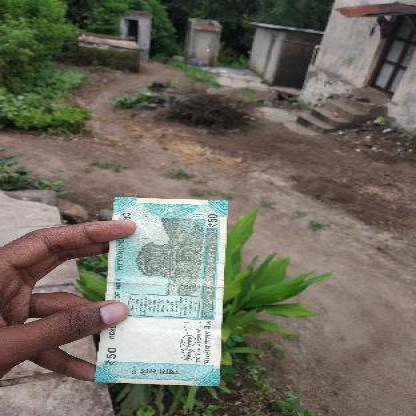New50Back: (93, 198, 224, 384)
